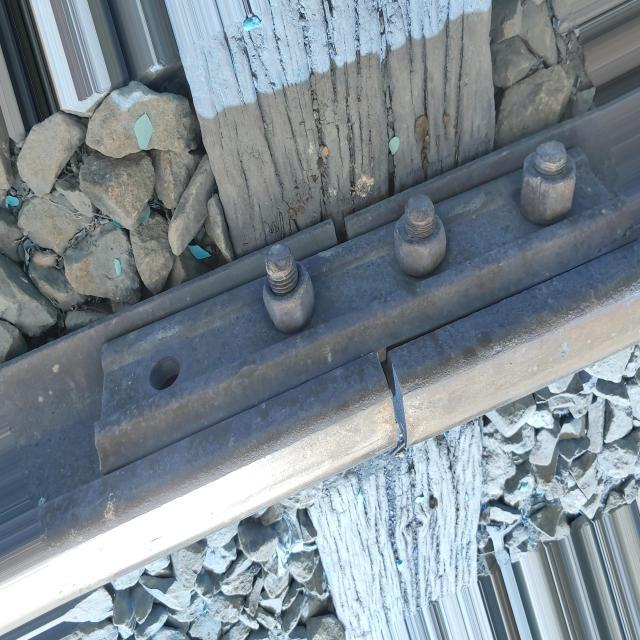Defective Joint: (90, 123, 637, 473)
